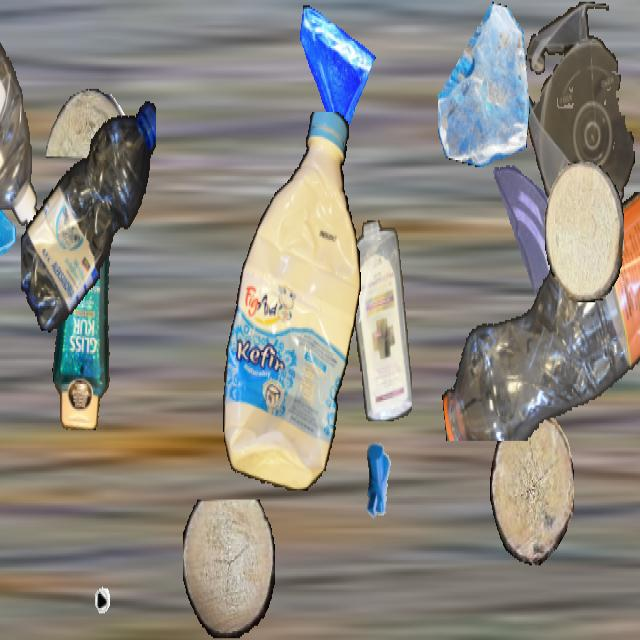glass: (438, 2, 530, 165), (489, 158, 573, 308), (294, 2, 376, 148), (0, 167, 19, 285)
metal: (348, 428, 410, 538), (57, 516, 117, 622)
plastic: (219, 112, 361, 489), (437, 192, 640, 441), (21, 89, 155, 338), (524, 2, 636, 236), (48, 176, 120, 428), (351, 220, 411, 420), (0, 2, 39, 233)
wood: (490, 412, 574, 566), (183, 500, 275, 638), (545, 162, 623, 300), (46, 89, 130, 156)
